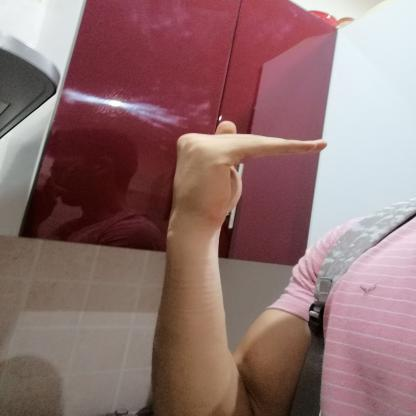KHAA: (152, 113, 340, 233)
